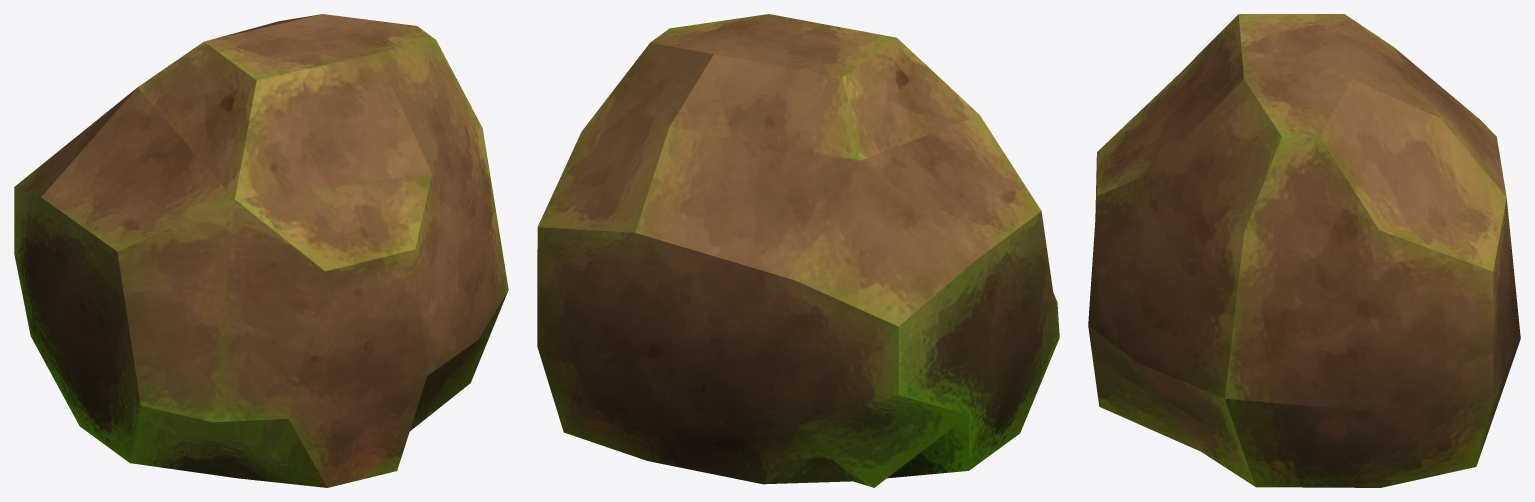
Rendered from Rocas03.fbx.
3 renders of one model, left to right at view 1: azimuth 30°, elevation 25°; view 2: azimuth 150°, elevation 25°; view 3: azimuth 270°, elevation 25°, orthographic. The views are drawn at different scales.
Visible parts, largest first — view 1: Roca3; view 2: Roca3; view 3: Roca3.
Boxes of the visible parts, <box> form: Roca3: <box>14,14,508,487</box>; Roca3: <box>537,14,1059,487</box>; Roca3: <box>1088,14,1520,487</box>.
Bounding box in the file's own units: 385 × 339 × 343.
